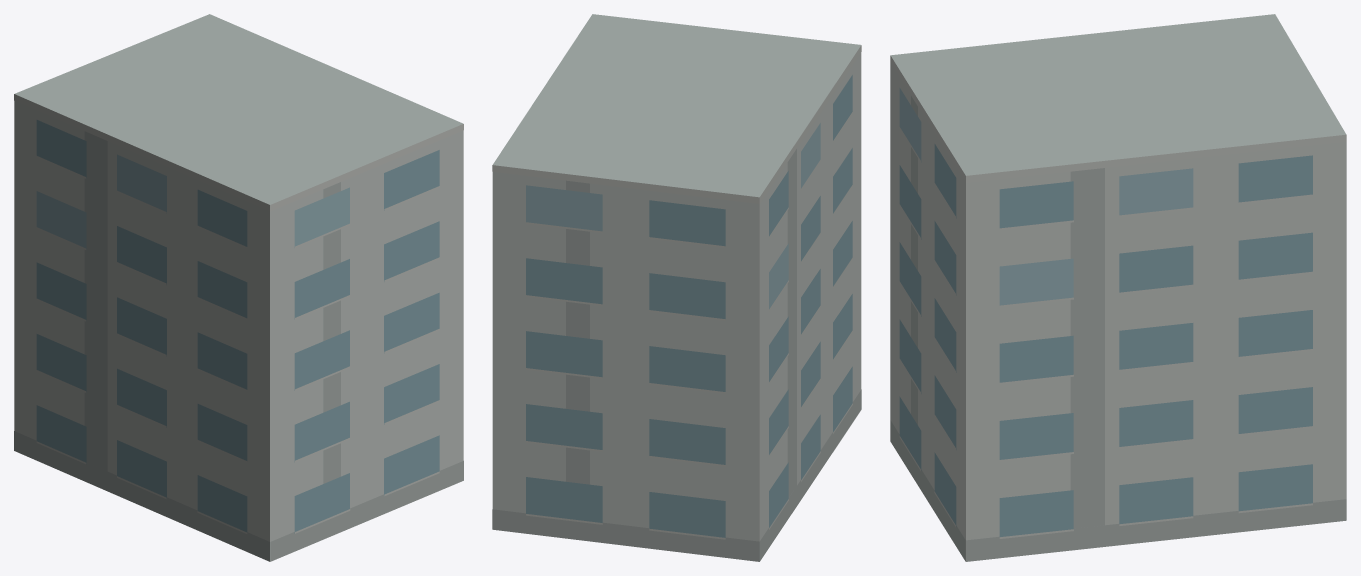
File: survey-upis-32564367.glb
3 views of the same model, side by side, from view 1: azimuth 30°, elevation 25°; view 2: azimuth 150°, elevation 25°; view 3: azimuth 270°, elevation 25° (orthographic). The views are drawn at different scales.
Parts seen in each view (by area): view 1: survey-upis-32564367.tmp; view 2: survey-upis-32564367.tmp; view 3: survey-upis-32564367.tmp.
Part boxes in pixels (<box>): survey-upis-32564367.tmp: <box>14,14,463,561</box>; survey-upis-32564367.tmp: <box>492,14,861,561</box>; survey-upis-32564367.tmp: <box>890,14,1346,561</box>.
Size of the model in its own units: 11.83 by 13.15 by 14.09.
